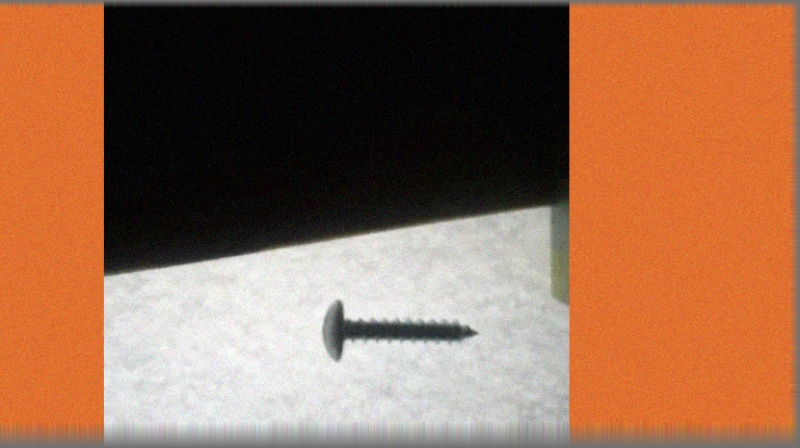S003: (317, 293, 479, 363)
